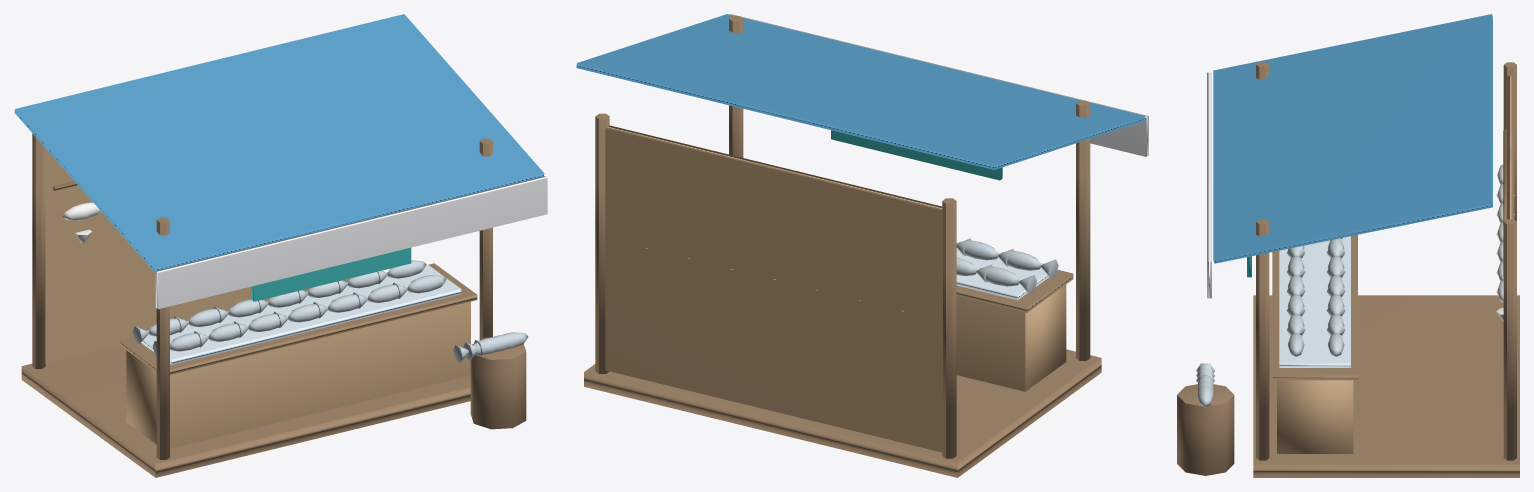
Rendered from puesto_pescado.glb.
3 views of the same model, side by side, from view 1: azimuth 30°, elevation 25°; view 2: azimuth 150°, elevation 25°; view 3: azimuth 270°, elevation 25° (orthographic). The views are drawn at different scales.
Parts seen in each view (by area): view 1: Pz_Toldo, Grupo_1_2piezas, Grupo_0_8piezas, Pz_Toldo_Franja, Grupo_2_34piezas, Pz_Bandeja_Escarcha, Pz_Letrero_Puesto, Grupo_4_14piezas; view 2: Grupo_1_2piezas, Pz_Toldo, Grupo_0_8piezas, Grupo_2_34piezas, Pz_Toldo_Franja, Pz_Letrero_Puesto, Pz_Bandeja_Escarcha; view 3: Pz_Toldo, Grupo_0_8piezas, Grupo_1_2piezas, Pz_Bandeja_Escarcha, Grupo_2_34piezas, Pz_Toldo_Franja, Grupo_4_14piezas.
Part boxes in pixels (x1,y1,x2,y2): Pz_Toldo: [14, 14, 544, 271]; Grupo_1_2piezas: [45, 148, 470, 448]; Grupo_0_8piezas: [21, 133, 526, 477]; Pz_Toldo_Franja: [155, 176, 547, 309]; Grupo_2_34piezas: [132, 260, 528, 362]; Pz_Bandeja_Escarcha: [141, 263, 461, 364]; Pz_Letrero_Puesto: [251, 247, 411, 301]; Grupo_4_14piezas: [63, 202, 100, 243]; Grupo_1_2piezas: [605, 125, 1066, 452]; Pz_Toldo: [576, 14, 1145, 169]; Grupo_0_8piezas: [584, 16, 1101, 477]; Grupo_2_34piezas: [956, 238, 1058, 294]; Pz_Toldo_Franja: [730, 14, 1148, 156]; Pz_Letrero_Puesto: [831, 130, 1002, 180]; Pz_Bandeja_Escarcha: [956, 242, 1048, 300]; Pz_Toldo: [1213, 14, 1492, 263]; Grupo_0_8piezas: [1177, 62, 1519, 477]; Grupo_1_2piezas: [1277, 75, 1514, 453]; Pz_Bandeja_Escarcha: [1279, 236, 1350, 367]; Grupo_2_34piezas: [1196, 238, 1345, 407]; Pz_Toldo_Franja: [1207, 72, 1211, 298]; Grupo_4_14piezas: [1496, 164, 1514, 321].
Size of the model in its own units: 4.7 by 3.3 by 3.6.
